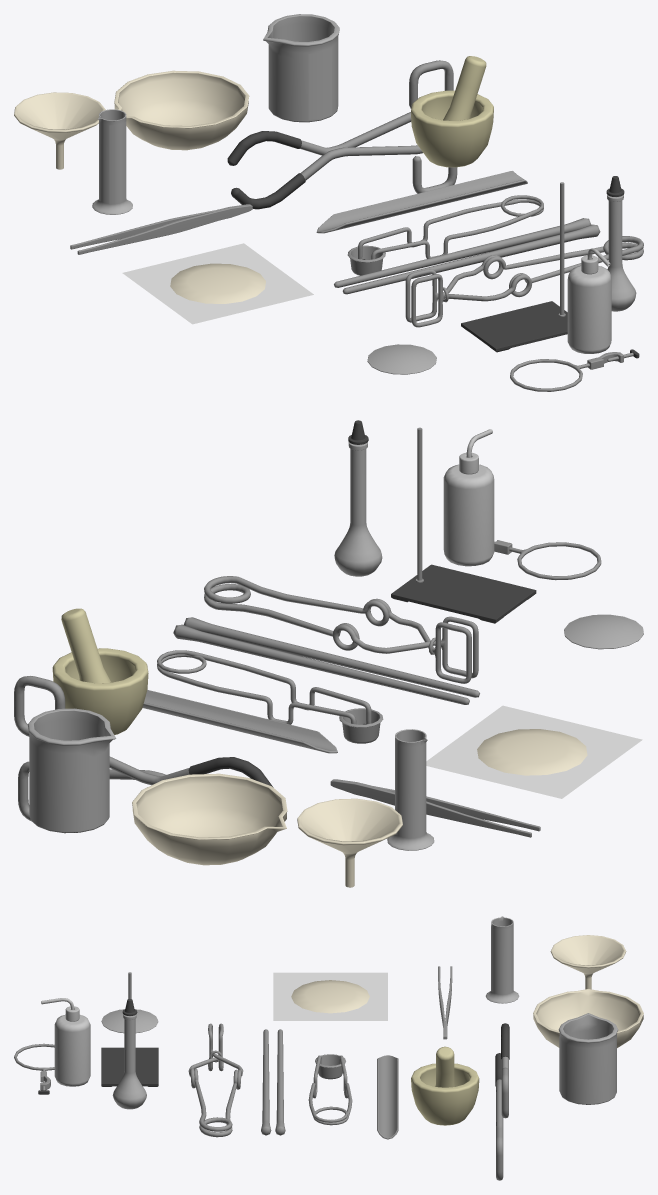
File: items.fbx
The picture shows the model from 3 angles, top to bottom: view 1: azimuth 30°, elevation 25°; view 2: azimuth 150°, elevation 25°; view 3: azimuth 270°, elevation 25°; orthographic projection. The views are drawn at different scales.
Visible parts, largest first — view 1: Cylinder.001, Cylinder, Plane, Vert.001, Cylinder.004, Vert.007, Circle.002, Cylinder.008, Cube.003, Cylinder.006, Cylinder.002, Plane.003 (+9 smaller); view 2: Cylinder.001, Cylinder, Plane, Circle.002, Vert.007, Cube.003, Cylinder.008, Cylinder.004, Cylinder.002, Vert.002, Plane.003, Cylinder.003 (+7 smaller); view 3: Cylinder, Plane, Cylinder.001, Cylinder.004, Cylinder.008, Cylinder.002, Plane.003, Cube.003, Circle.002, Cylinder.003, Cylinder.007, Cylinder.006 (+7 smaller).
Part boxes in pixels (box(x1,y1,x2,y2)): Cylinder.001: box(114, 70, 249, 150); Cylinder: box(263, 14, 339, 122); Plane: box(122, 243, 313, 324); Vert.001: box(227, 60, 457, 209); Cylinder.004: box(410, 90, 493, 167); Vert.007: box(334, 218, 600, 294); Circle.002: box(405, 236, 643, 327); Cylinder.008: box(567, 248, 611, 353); Cube.003: box(461, 182, 567, 352); Cylinder.006: box(316, 171, 527, 233); Cylinder.002: box(14, 92, 105, 169); Plane.003: box(170, 263, 265, 303); Cylinder.001: box(132, 773, 287, 865); Cylinder: box(27, 708, 116, 833); Plane: box(426, 705, 642, 798); Circle.002: box(204, 576, 478, 683); Vert.007: box(173, 617, 479, 704); Cube.003: box(391, 427, 536, 623); Cylinder.008: box(443, 429, 494, 566); Cylinder.004: box(52, 648, 148, 734); Cylinder.002: box(297, 798, 402, 887); Vert.002: box(157, 650, 383, 743); Plane.003: box(477, 729, 587, 775); Cylinder.003: box(387, 729, 434, 850); Cylinder: box(558, 1013, 618, 1104); Plane: box(273, 972, 387, 1020); Cylinder.001: box(533, 989, 643, 1047); Cylinder.004: box(411, 1063, 479, 1125); Cylinder.008: box(41, 998, 90, 1086); Cylinder.002: box(550, 935, 626, 989); Plane.003: box(291, 980, 369, 1013); Cube.003: box(101, 972, 158, 1086); Circle.002: box(188, 1023, 243, 1137); Cylinder.003: box(485, 916, 519, 1003); Cylinder.007: box(112, 999, 146, 1109); Cylinder.006: box(377, 1055, 398, 1139).
Size of the model in its own units: 13.99 by 6.32 by 21.98.
